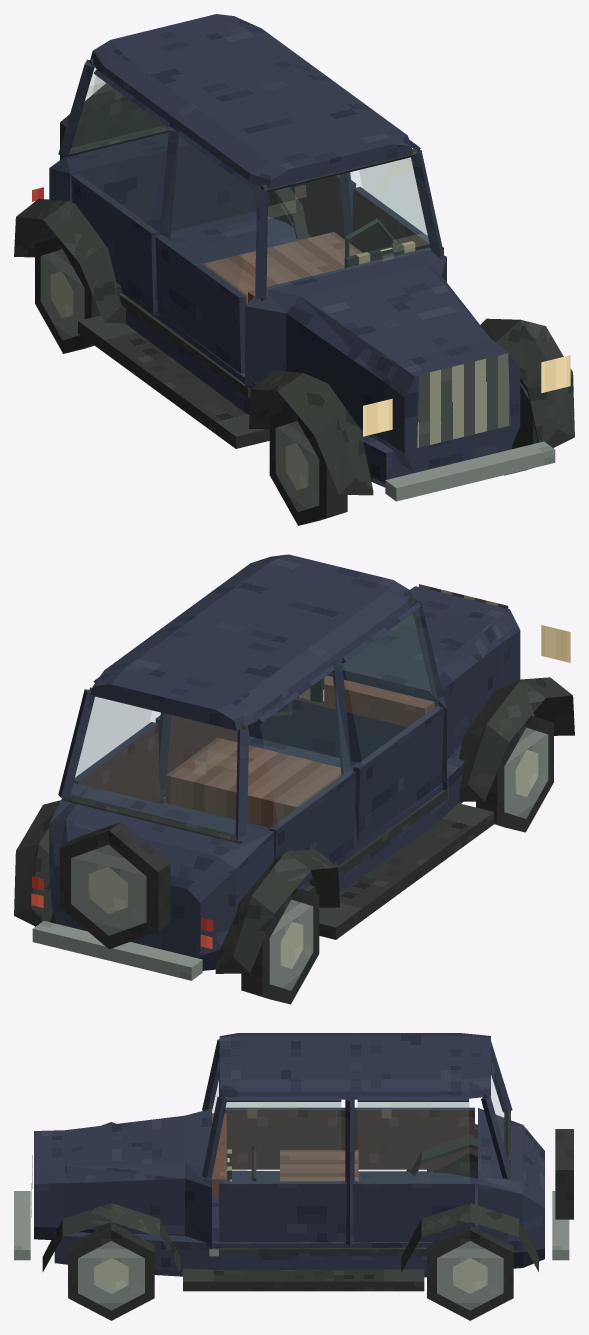
File: alderwick-1928-mid.glb
3 renders of one model, top to bottom at view 1: azimuth 30°, elevation 25°; view 2: azimuth 150°, elevation 25°; view 3: azimuth 270°, elevation 25°, orthographic. The views are drawn at different scales.
Visible parts, largest first — view 1: body, Hood opening panel, Hinged side glass.002, Hinged side glass.003, Shaped hinged outer door.002, Shaped hinged outer door.003, Distance tyre.004, Distance tyre.001, Padded inside door panel.001, Distance hubcap.002, Padded inside door panel, Distance hubcap.006 (+7 smaller); view 2: body, Hinged side glass.002, Hinged side glass.003, Hood opening panel, Shaped hinged outer door.002, Distance tyre.004, Shaped hinged outer door.003, Distance hubcap.008, Padded inside door panel.001, Hinged side glass.001, Distance tyre.003, Distance tyre.001 (+10 smaller); view 3: body, Hinged side glass, Hinged side glass.001, Hood opening panel, Shaped hinged outer door, Padded inside door panel.003, Padded inside door panel.002, Shaped hinged outer door.001, Distance tyre, Distance tyre.002, Distance hubcap.004, Distance hubcap (+11 smaller).
Boxes of the visible parts, x1,y1,x2,y2 form: body: (14, 14, 574, 501); Hood opening panel: (266, 247, 509, 376); Hinged side glass.002: (160, 138, 253, 294); Hinged side glass.003: (77, 76, 167, 229); Shaped hinged outer door.002: (155, 237, 240, 373); Shaped hinged outer door.003: (71, 175, 153, 309); Distance tyre.004: (60, 83, 163, 159); Distance tyre.001: (269, 409, 347, 525); Padded inside door panel.001: (284, 175, 344, 239); Distance hubcap.002: (275, 421, 319, 512); Padded inside door panel: (352, 188, 430, 252); Distance hubcap.006: (40, 249, 84, 340); body: (14, 554, 574, 980); Hinged side glass.002: (344, 609, 438, 764); Hinged side glass.003: (260, 672, 351, 826); Hood opening panel: (340, 586, 509, 690); Shaped hinged outer door.002: (358, 708, 443, 844); Distance tyre.004: (60, 821, 170, 949); Shaped hinged outer door.003: (275, 772, 356, 887); Distance hubcap.008: (71, 844, 146, 935); Padded inside door panel.001: (78, 724, 160, 802); Hinged side glass.001: (77, 697, 151, 775); Distance tyre.003: (241, 887, 319, 1004); Distance tyre.001: (476, 715, 553, 832); body: (14, 1033, 569, 1291); Hinged side glass: (224, 1102, 340, 1182); Hinged side glass.001: (358, 1102, 468, 1182); Hood opening panel: (34, 1108, 211, 1167); Shaped hinged outer door: (219, 1184, 346, 1241); Padded inside door panel.003: (354, 1110, 474, 1169); Padded inside door panel.002: (224, 1110, 345, 1169); Shaped hinged outer door.001: (353, 1184, 474, 1241); Distance tyre: (68, 1222, 154, 1320); Distance tyre.002: (427, 1225, 513, 1320); Distance hubcap.004: (437, 1241, 503, 1310); Distance hubcap: (78, 1241, 144, 1310).
Bounding box in the file's own units: 1.83 × 1.89 × 4.35.
6 materials, 6 textured.
